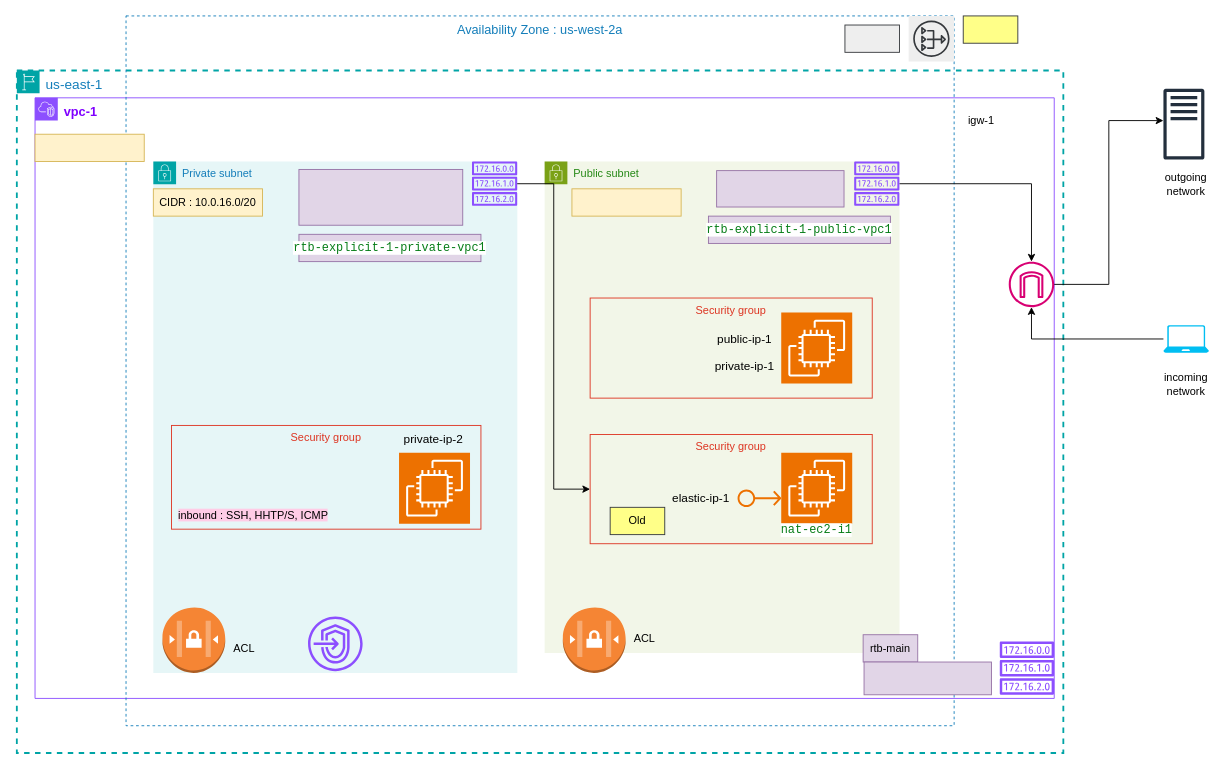
Some shapes in this 1229 by 770 pixel diagram are drawn without their labels. The centre of each missing label's shape, as x and y in pixels:
"- 0.0.0.0/0 - igw-1 - subnet CIRD - local" goes at [780,188].
"- 0.0.0.0/0 - nat-ec2-i1 - subnet CIRD - local - 0.00.0/0 - Nat gateway" goes at [380,197].
"- VPC CIDR-1 - local" goes at [927,678].
"CIDR : 10.0.0.0/24" goes at [626,202].
"CIDR-1 : 10.0.0.0/16" goes at [89,147].
"Nat gateway" goes at [872,38].
"New" goes at [990,29].
